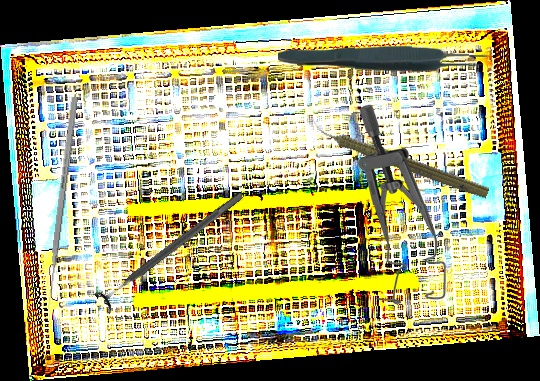Fixation Ring: (92, 183, 251, 316)
Handpiece: (306, 116, 493, 202)
Pusher: (44, 96, 79, 311)
Speculum: (356, 102, 448, 307)
Tissue Forceps: (277, 43, 490, 75)
